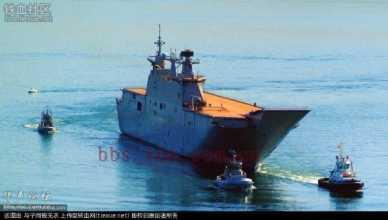otherboat: (319, 139, 372, 198), (208, 150, 258, 195), (37, 105, 56, 139)
warship: (104, 21, 313, 172)
